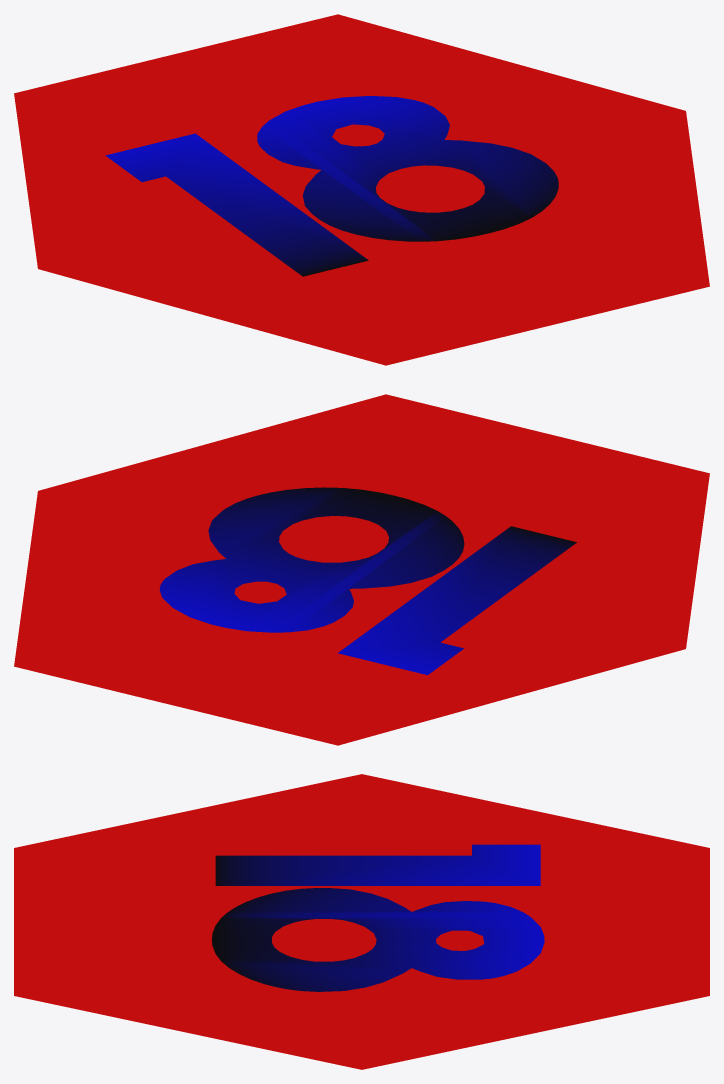
The model's file is SM_Number_18.fbx.
3 renders of one model, top to bottom at view 1: azimuth 30°, elevation 25°; view 2: azimuth 150°, elevation 25°; view 3: azimuth 270°, elevation 25°, orthographic. The views are drawn at different scales.
Parts seen in each view (by area): view 1: FBX_OUT; view 2: FBX_OUT; view 3: FBX_OUT.
Boxes of the visible parts, x1,y1,x2,y2 form: FBX_OUT: (14, 14, 709, 365); FBX_OUT: (14, 394, 709, 745); FBX_OUT: (14, 774, 709, 1069).
Bounding box in the file's own units: 50 × 0.2917 × 49.71.
